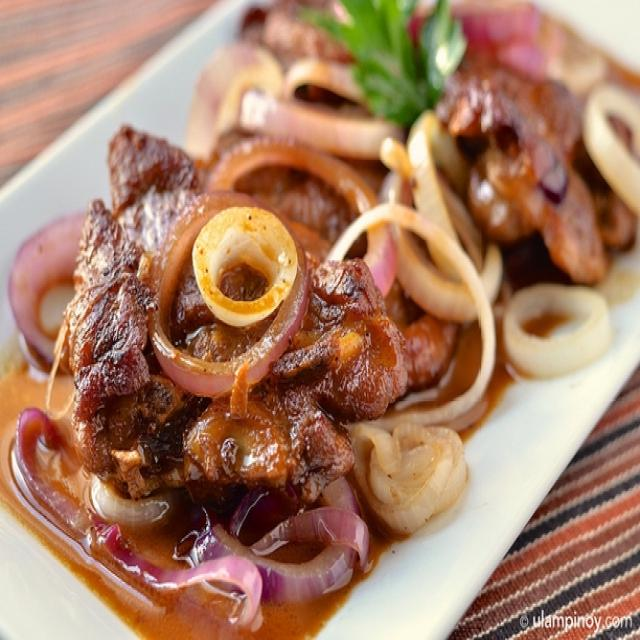猪肉菜式: (44, 16, 608, 610)
